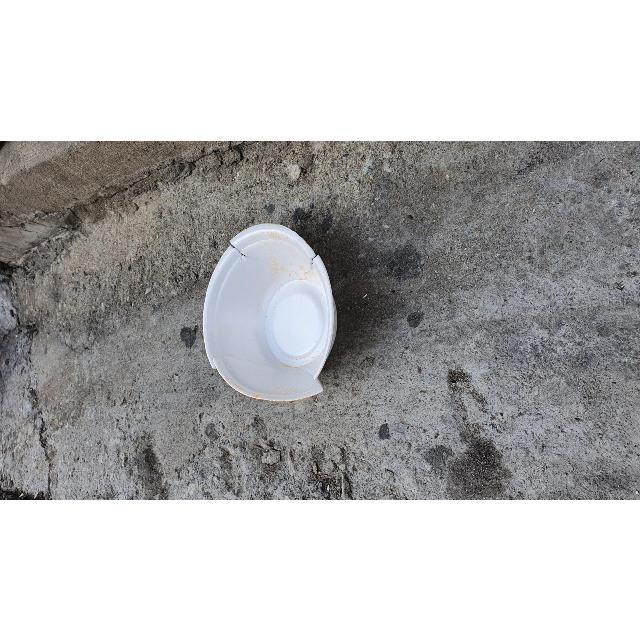Plastico descartable: (202, 224, 339, 406)
